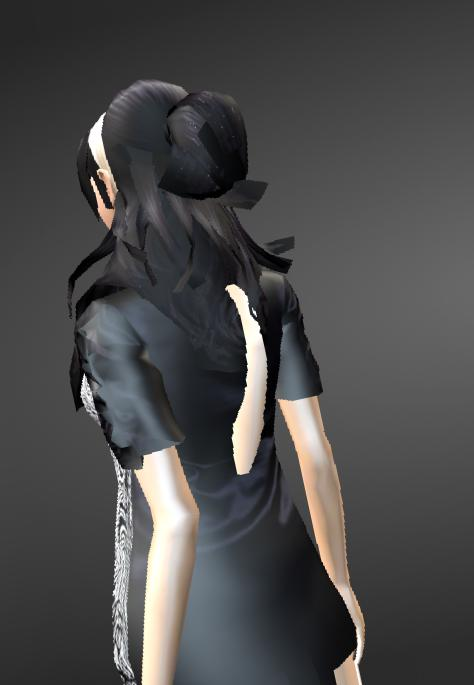clip: (216, 280, 266, 330)
